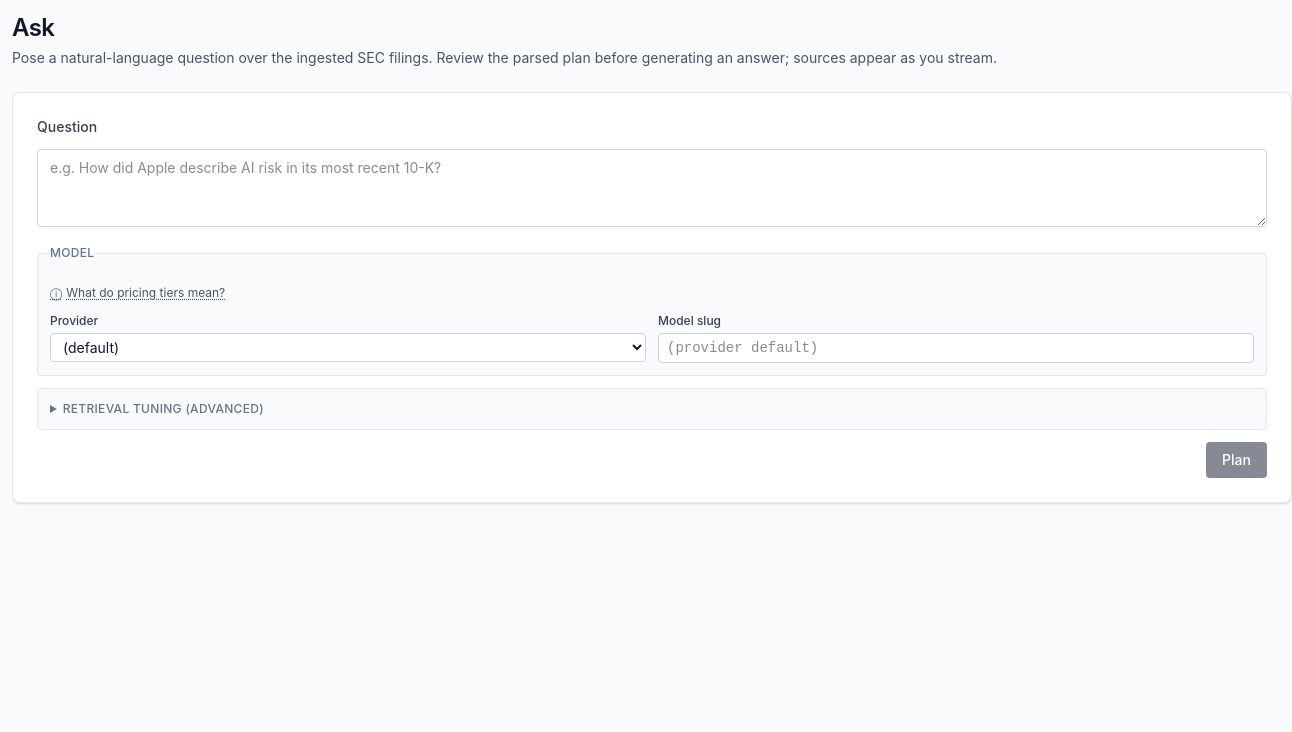
Scenario: RagPage — planning › surfaces a 400 plan failure without echoing the input
Type "SECRET-INPUT" into the text box labelled "Question" at (652, 188), box [37,149,1267,227]
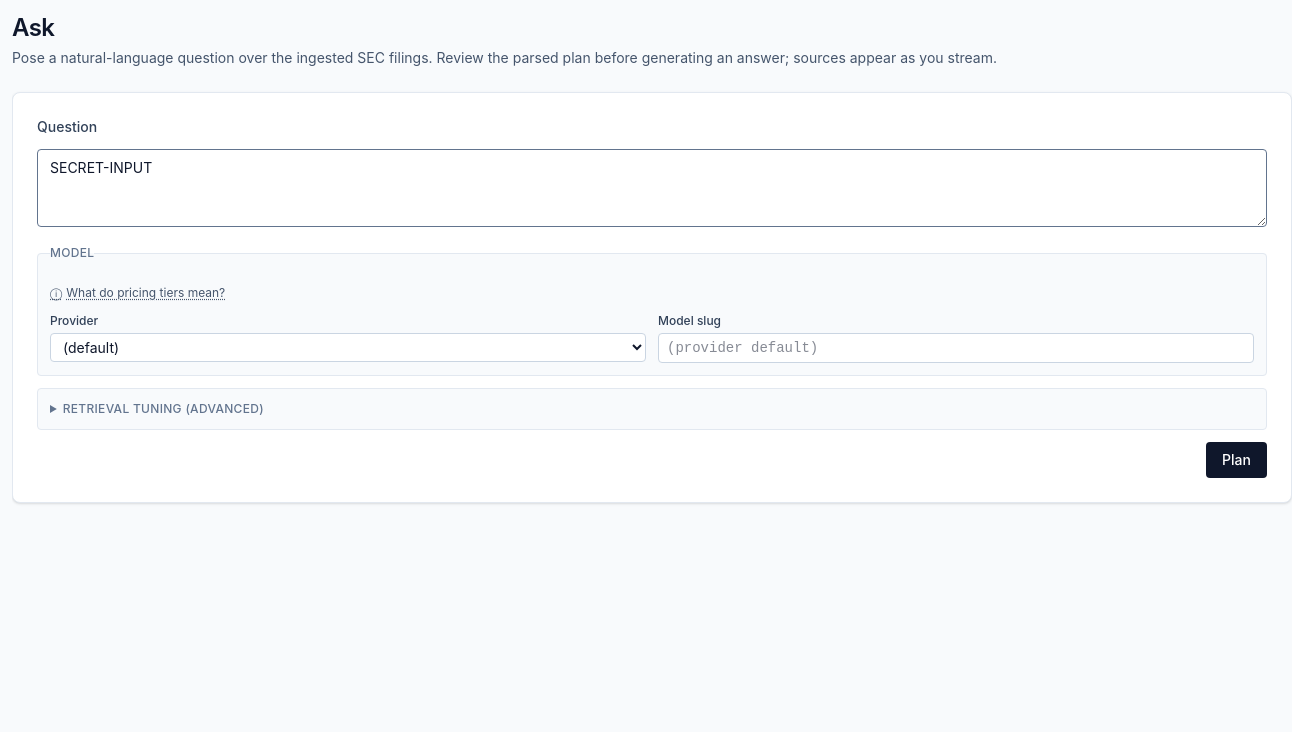
Click the button "Plan" at (1237, 460), box [1206,442,1267,478]
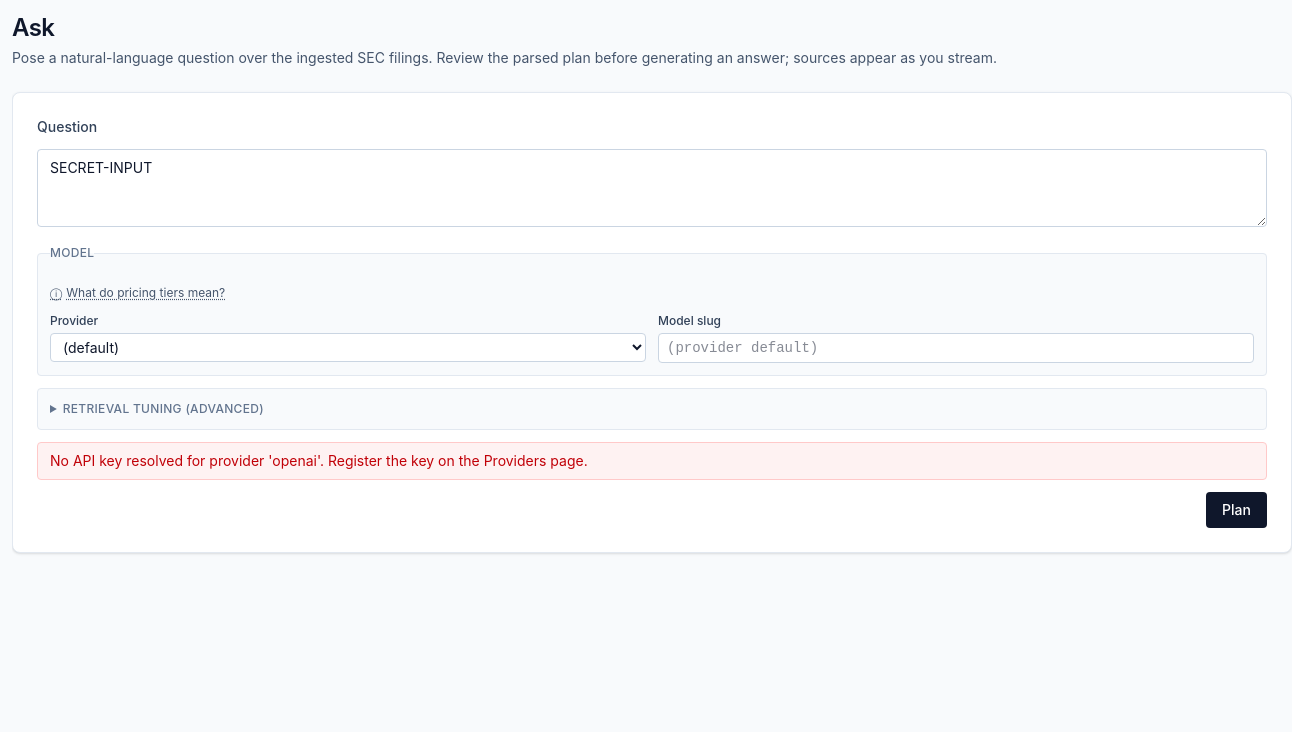
Expected: the message does not show "SECRET-INPUT"
Expected: the message shows "No API key resolved", [50,452,324,469]
